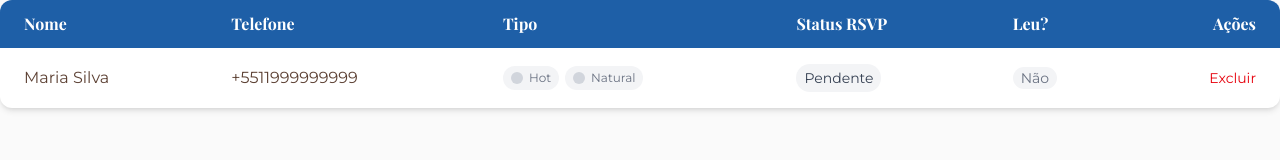
Scenario: GuestsTable > Inline Editing › should start editing name on click
Click the button "Maria Silva" at (104, 78), box [24,66,183,90]
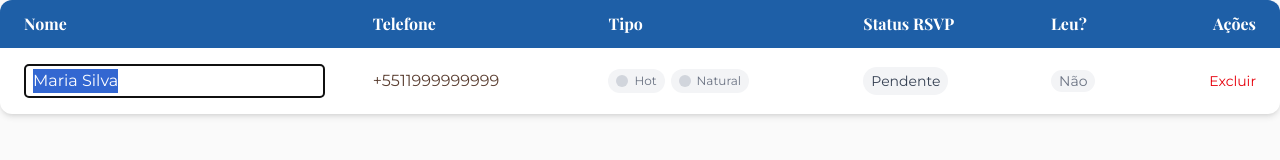
Expected: the field showing "Maria Silva" is shown, [24,64,325,98]
